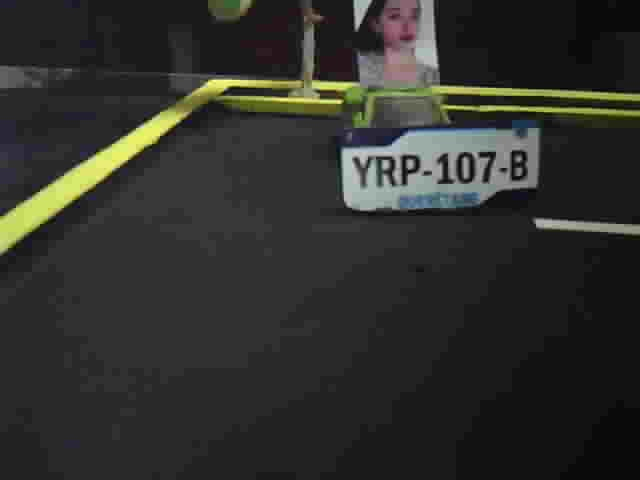PLACA: (336, 115, 543, 216)
ROSTRO: (355, 1, 441, 89)
